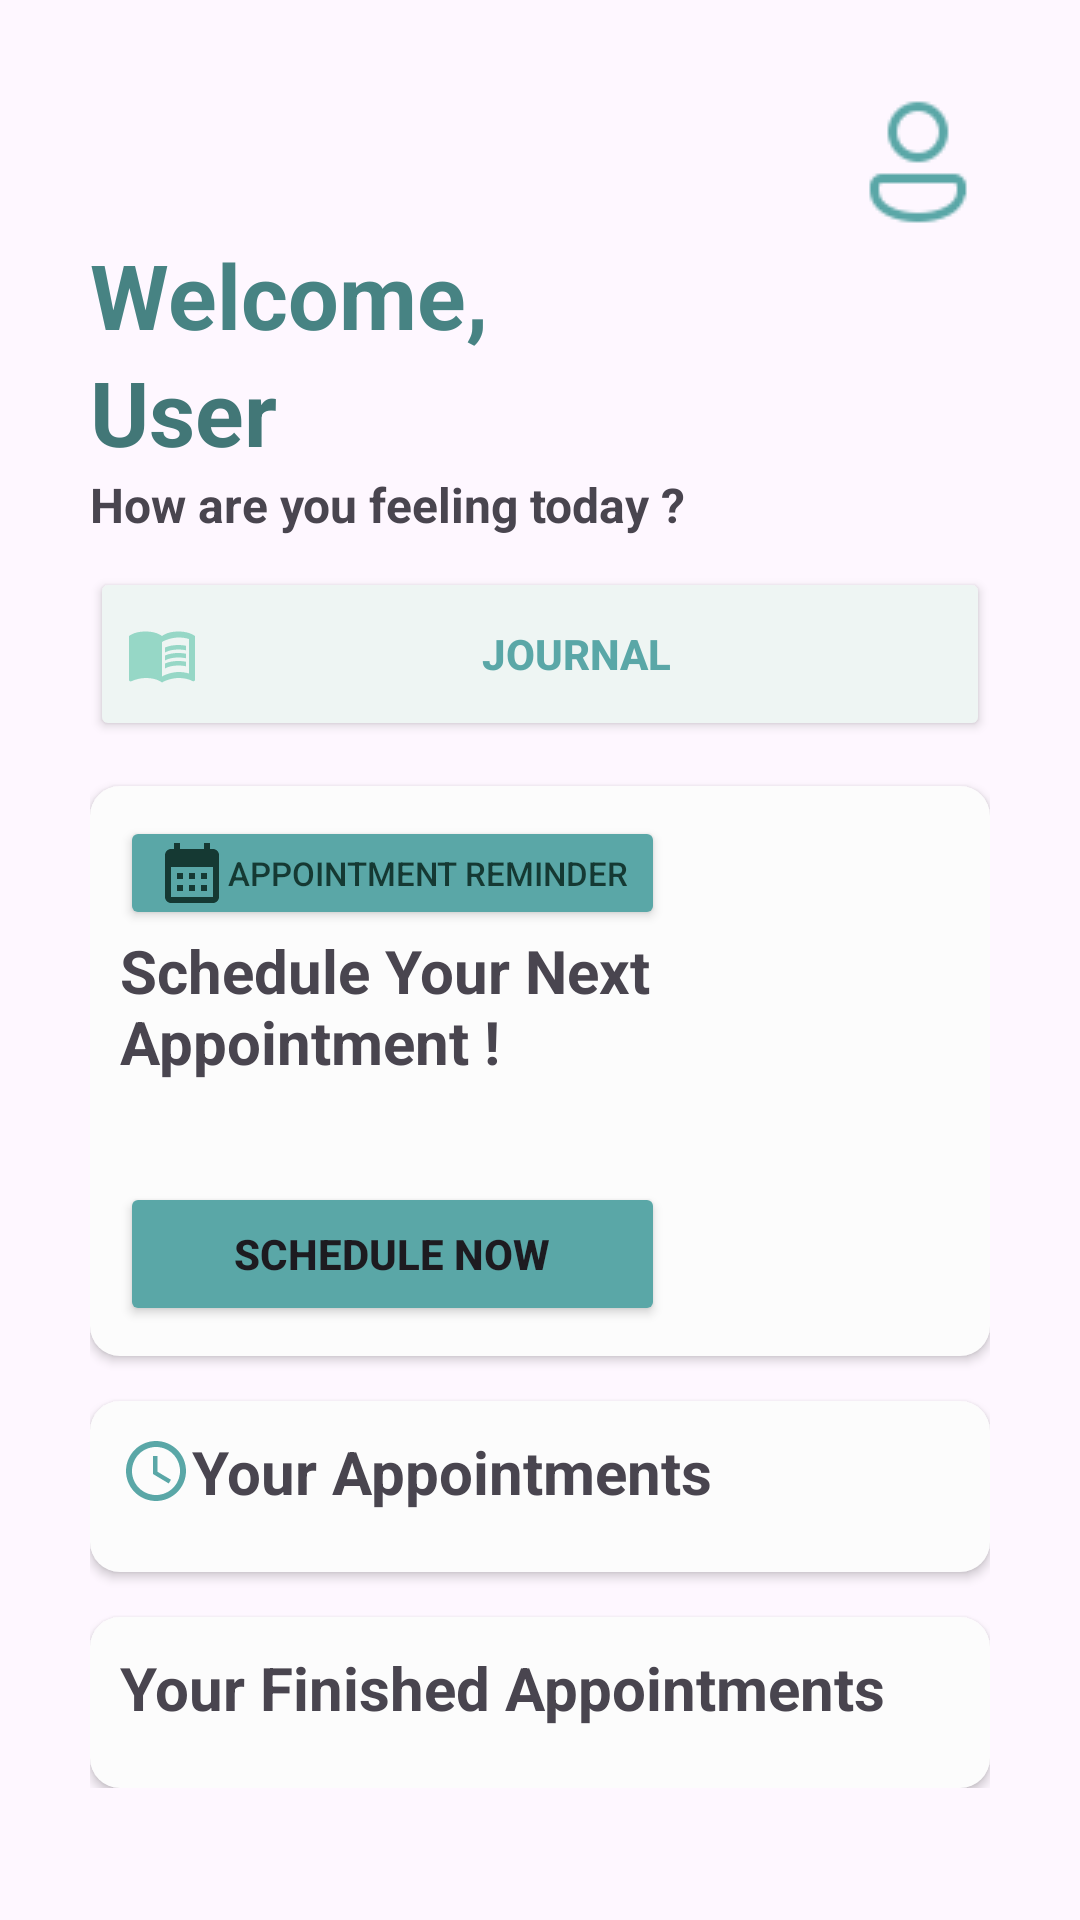

Screen size 1080px x 1920px. Icon name, then its box in pixels as (x1=x1, y1=y1, x2=x2, y2=y2):
profile: (x1=869, y1=101, x2=967, y2=223)
